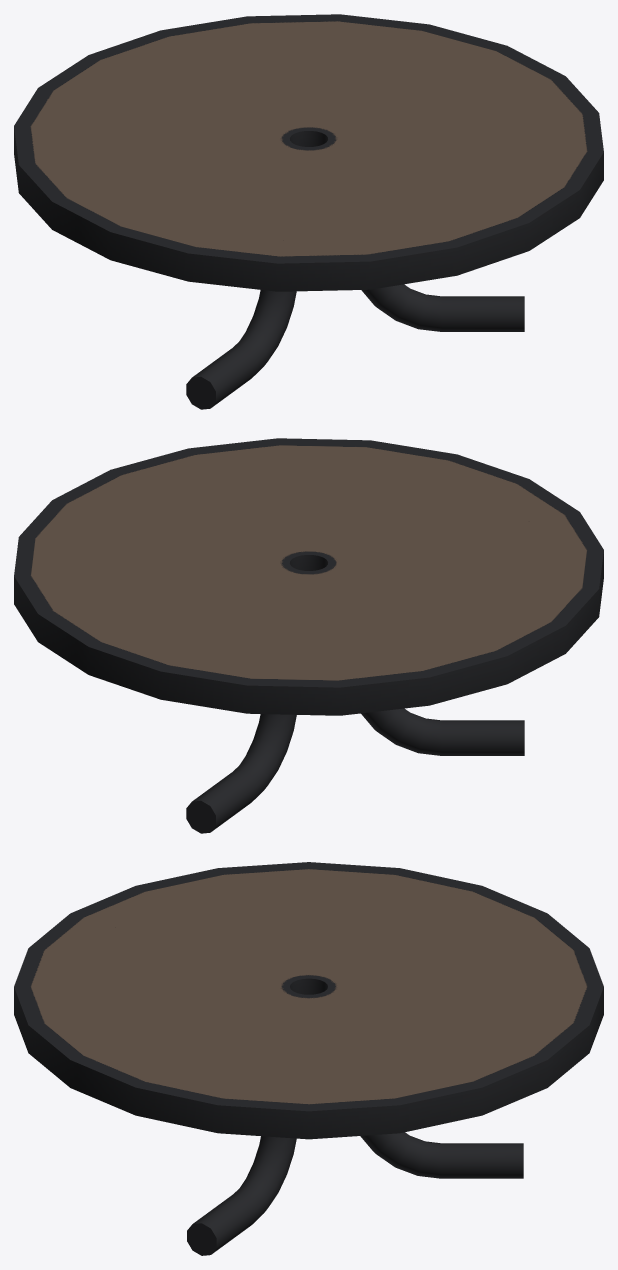
The model's file is Table.fbx.
3 renders of one model, top to bottom at view 1: azimuth 30°, elevation 25°; view 2: azimuth 150°, elevation 25°; view 3: azimuth 270°, elevation 25°, orthographic.
Parts seen in each view (by area): view 1: Table; view 2: Table; view 3: Table.
Boxes of the visible parts, x1,y1,x2,y2 form: Table: (14, 14, 603, 409); Table: (14, 438, 603, 833); Table: (14, 862, 603, 1255).
Bounding box in the file's own units: 3.02 × 1.08 × 3.02.
1 material, 1 textured.
